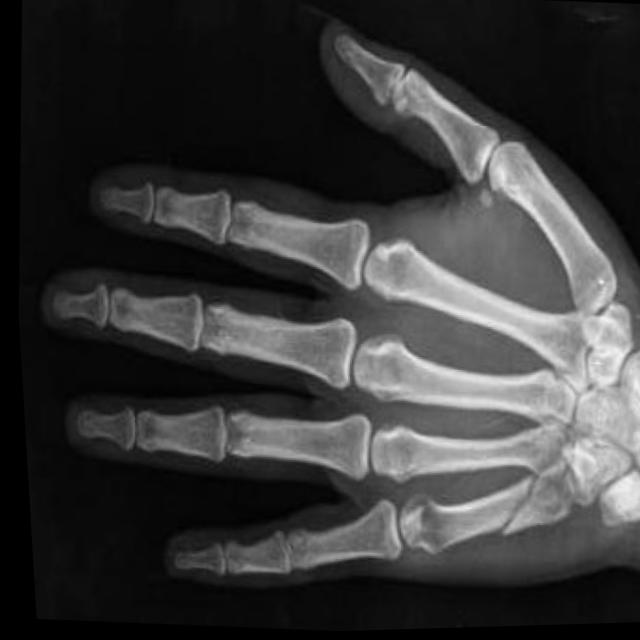fracture: (476, 469, 543, 551)
